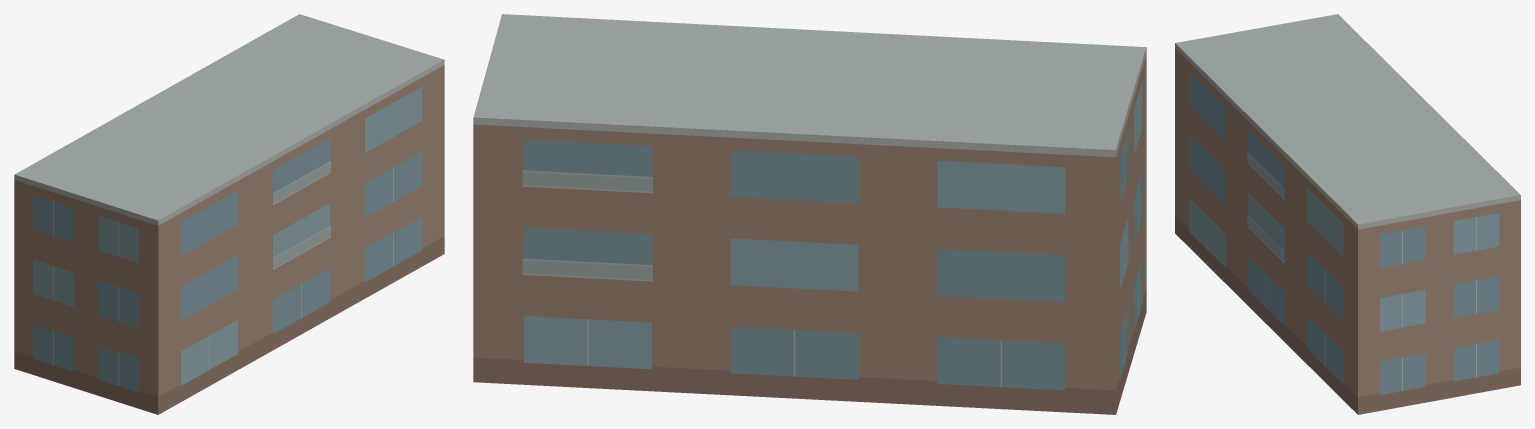
File: survey-upis-32656936.glb
3 views of the same model, side by side, from view 1: azimuth 30°, elevation 25°; view 2: azimuth 150°, elevation 25°; view 3: azimuth 270°, elevation 25° (orthographic). The views are drawn at different scales.
Parts seen in each view (by area): view 1: survey-upis-32656936.tmp; view 2: survey-upis-32656936.tmp; view 3: survey-upis-32656936.tmp.
Part boxes in pixels (x1,y1,x2,y2): survey-upis-32656936.tmp: [14, 14, 444, 414]; survey-upis-32656936.tmp: [473, 14, 1146, 414]; survey-upis-32656936.tmp: [1175, 14, 1520, 414].
Size of the model in its own units: 21.59 by 9.1 by 14.99.
